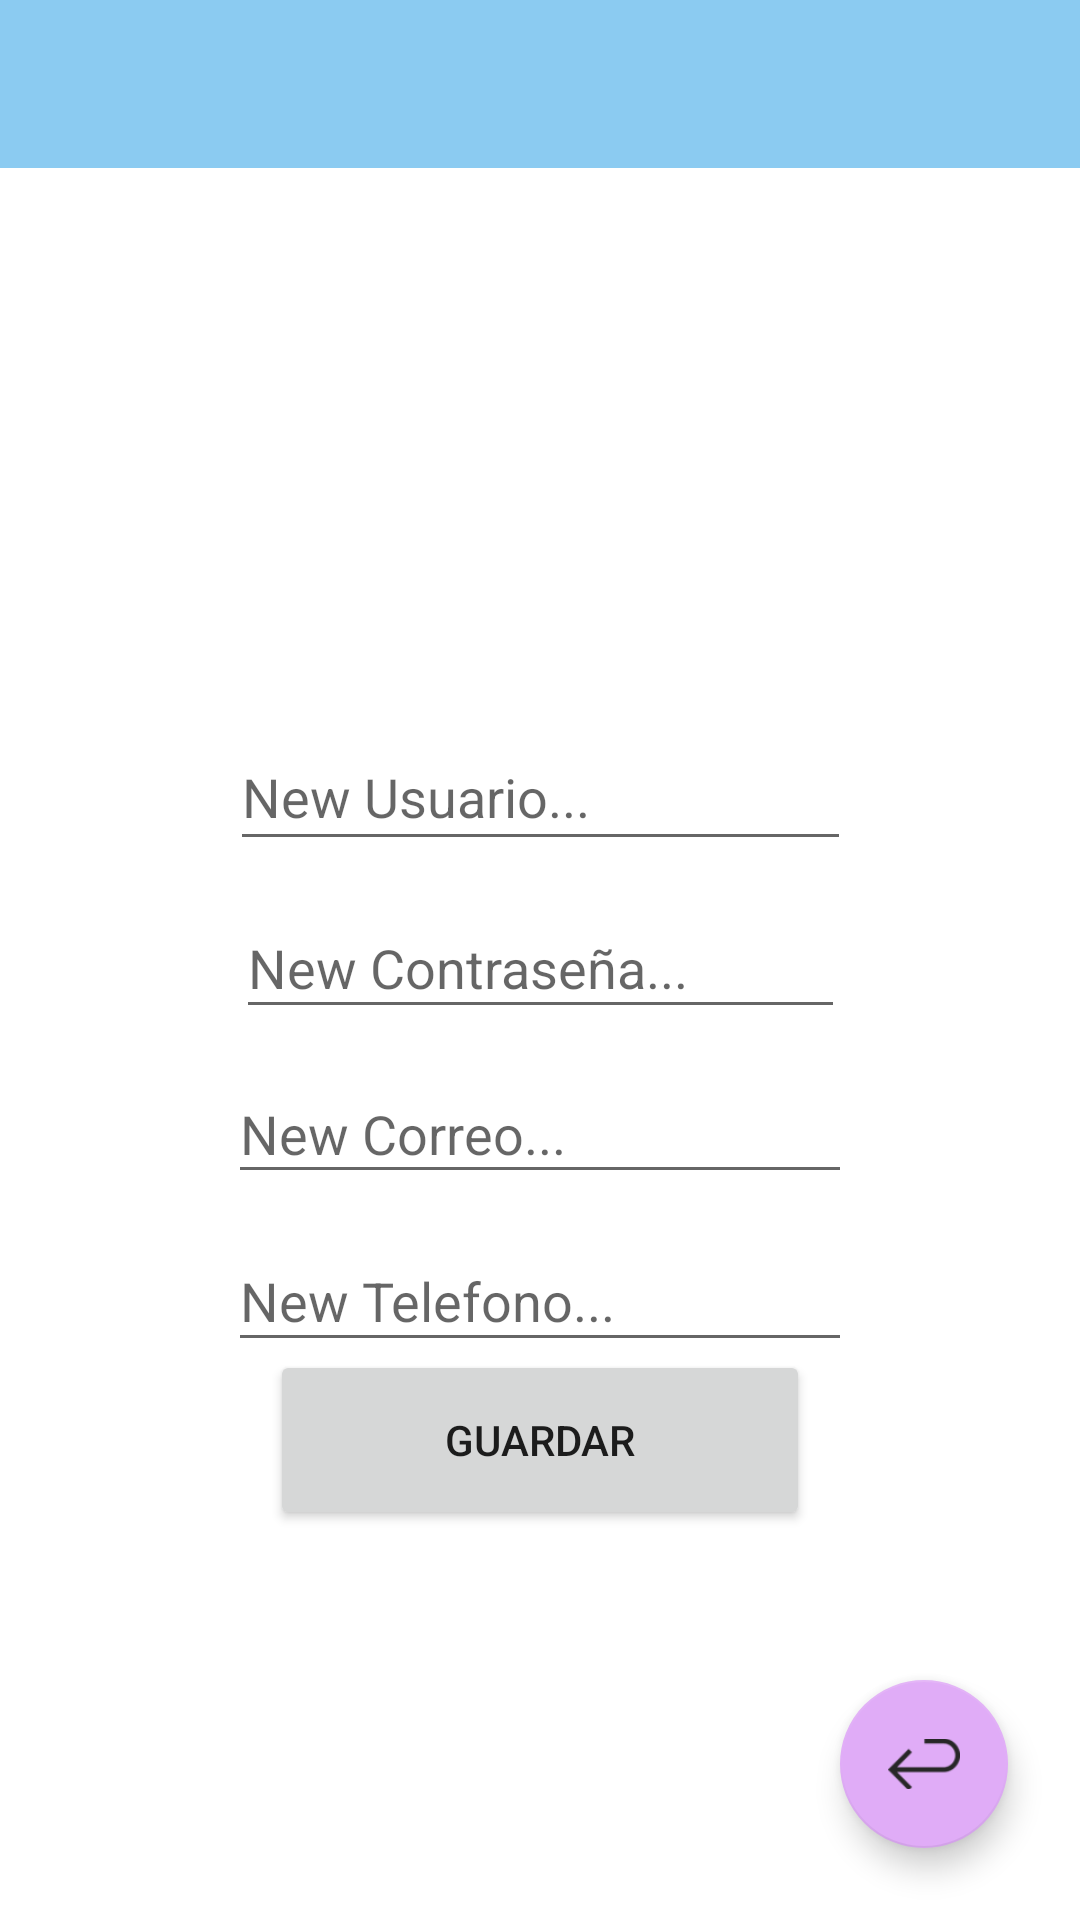

Point at icon controls on the screen. Image size 1080×1920, points as [x,y].
salir: [924,1764]
